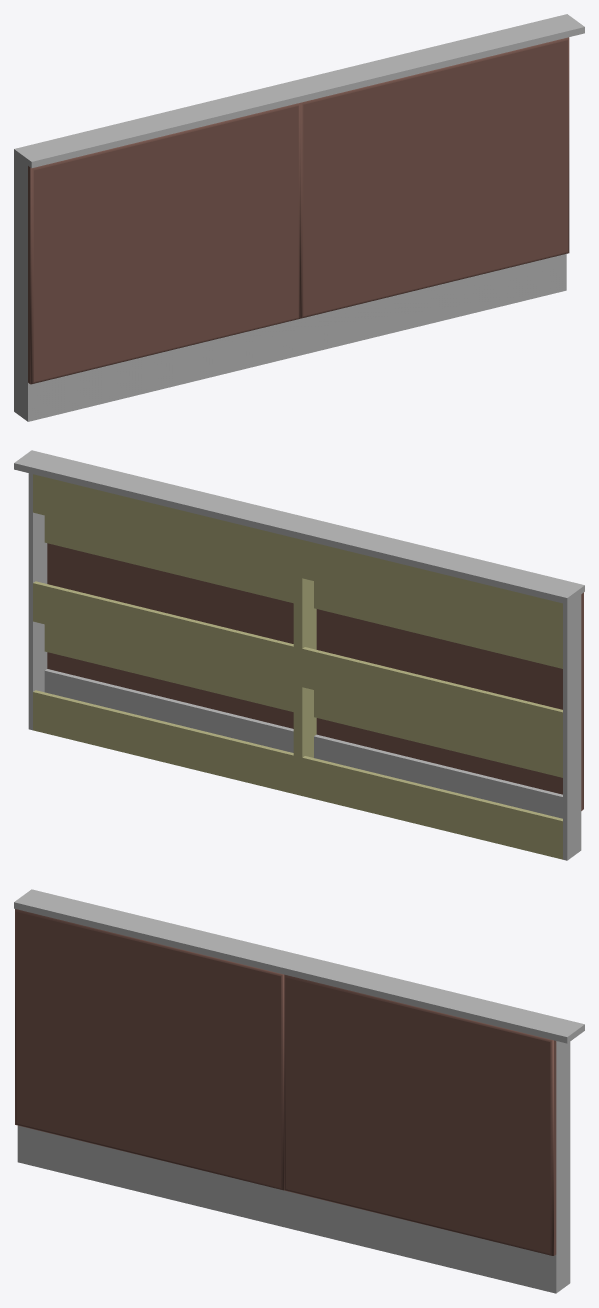
File: minimalist_panel_headboard.glb
3 views of the same model, one above another, from view 1: azimuth 30°, elevation 25°; view 2: azimuth 150°, elevation 25°; view 3: azimuth 330°, elevation 25° (orthographic).
Parts seen in each view (by area): view 1: Object_3, Object_4, Object_5; view 2: Object_6, Object_3, Object_4, Object_5; view 3: Object_3, Object_4, Object_5.
Boxes of the visible parts, x1=… form: Object_3: x1=28, y1=37, x2=569, y2=384; Object_4: x1=14, y1=14, x2=584, y2=421; Object_5: x1=14, y1=155, x2=27, y2=419; Object_6: x1=33, y1=474, x2=562, y2=859; Object_3: x1=47, y1=543, x2=583, y2=810; Object_4: x1=14, y1=450, x2=584, y2=851; Object_5: x1=28, y1=473, x2=581, y2=860; Object_3: x1=15, y1=909, x2=556, y2=1255; Object_4: x1=14, y1=889, x2=584, y2=1293; Object_5: x1=556, y1=1041, x2=570, y2=1291.
Bounding box in the file's own units: 226 × 103 × 12.5.
